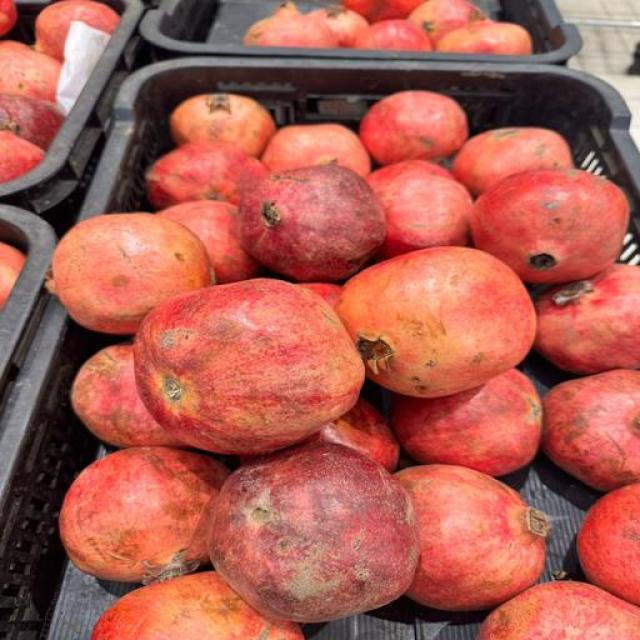organic: (134, 279, 363, 453), (209, 443, 418, 622), (337, 247, 536, 397), (394, 464, 549, 611), (60, 447, 228, 582), (49, 213, 211, 334), (470, 169, 628, 283), (239, 164, 384, 282), (392, 369, 542, 476), (92, 572, 303, 639), (543, 369, 639, 491), (535, 264, 639, 373), (72, 344, 182, 447), (368, 160, 472, 259), (477, 582, 639, 639), (159, 200, 262, 283), (452, 128, 573, 194), (147, 142, 267, 208), (359, 92, 468, 164), (577, 484, 639, 604), (307, 398, 399, 472), (169, 94, 276, 157), (262, 124, 371, 176), (35, 0, 119, 61), (243, 0, 338, 47), (0, 40, 61, 103), (0, 94, 63, 149), (437, 20, 532, 56), (409, 0, 484, 42), (353, 19, 433, 51), (309, 4, 368, 47), (0, 130, 44, 182), (343, 0, 423, 22), (0, 243, 24, 309), (299, 283, 341, 307), (0, 0, 17, 36)
